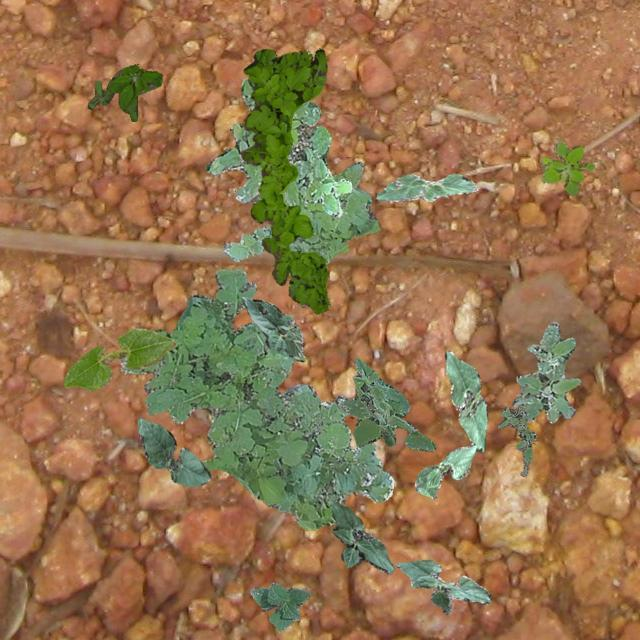crop: (64, 326, 174, 389), (394, 558, 490, 614), (136, 416, 210, 486), (328, 498, 394, 572), (444, 350, 486, 450), (240, 296, 304, 360), (414, 442, 476, 498), (374, 172, 478, 202), (248, 582, 310, 630)
weed: (120, 268, 392, 528), (240, 48, 328, 314), (205, 76, 352, 220), (222, 160, 378, 264), (338, 356, 434, 451), (512, 321, 580, 422), (86, 64, 160, 120), (538, 140, 594, 194), (496, 406, 536, 476)
